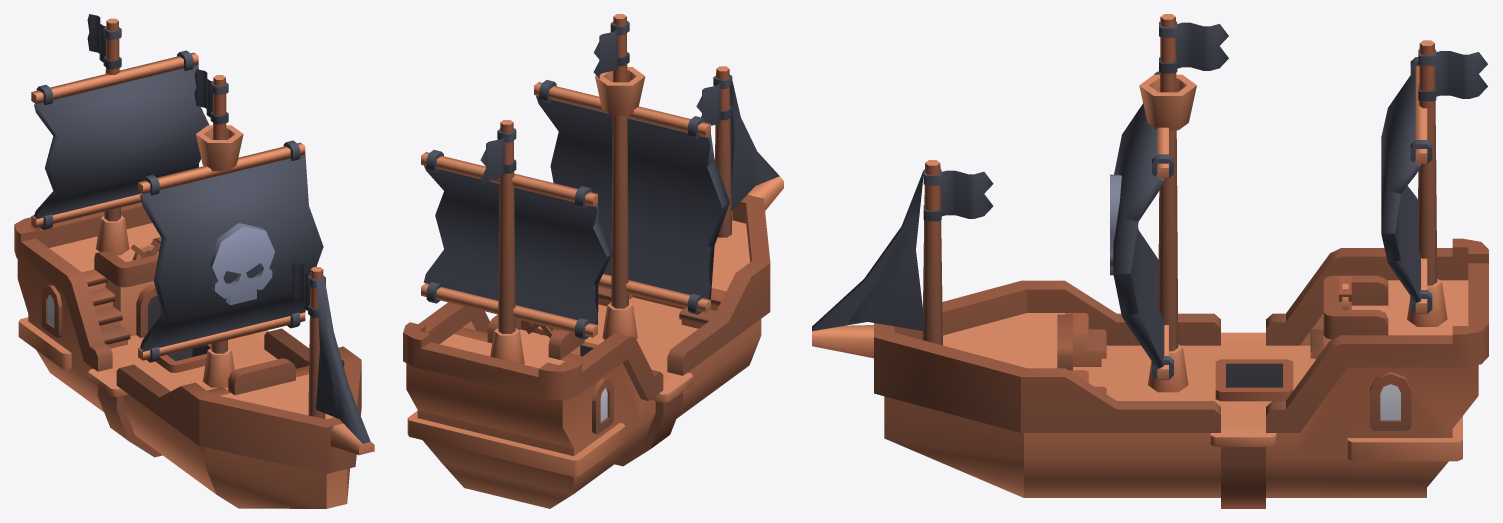
Rendered from reference_ship.glb.
3 renders of one model, left to right at view 1: azimuth 30°, elevation 25°; view 2: azimuth 150°, elevation 25°; view 3: azimuth 270°, elevation 25°, orthographic. The views are drawn at different scales.
Parts seen in each view (by area): view 1: ship-pirate-large, sail-a, sail-b, BowSailOriginal, flag-c.001, flag-c.002, flag-c, Bowsprit, BowSailFigurehead; view 2: ship-pirate-large, sail-a, sail-b, BowSailOriginal, BowSailFigurehead, flag-c.002, flag-c.001, flag-c, Bowsprit; view 3: ship-pirate-large, sail-a, sail-b, BowSailFigurehead, BowSailOriginal, flag-c, flag-c.001, flag-c.002, Bowsprit.
Boxes of the visible parts, x1,y1,x2,y2 form: ship-pirate-large: (14, 18, 361, 508); sail-a: (138, 140, 323, 362); sail-b: (31, 50, 209, 229); BowSailOriginal: (316, 279, 370, 443); flag-c.001: (194, 69, 228, 124); flag-c.002: (87, 14, 121, 69); flag-c: (291, 262, 325, 317); Bowsprit: (330, 423, 374, 455); BowSailFigurehead: (316, 284, 345, 422); ship-pirate-large: (403, 14, 770, 508); sail-a: (534, 80, 729, 314); sail-b: (421, 150, 612, 339); BowSailOriginal: (731, 81, 779, 210); BowSailFigurehead: (730, 85, 762, 209); flag-c.002: (480, 128, 516, 186); flag-c.001: (593, 21, 629, 78); flag-c: (696, 75, 732, 125); Bowsprit: (747, 176, 783, 210); ship-pirate-large: (874, 14, 1488, 508); sail-a: (1110, 71, 1173, 379); sail-b: (1381, 57, 1432, 313); BowSailFigurehead: (848, 178, 924, 330); BowSailOriginal: (812, 170, 923, 331); flag-c: (923, 169, 993, 221); flag-c.001: (1159, 21, 1228, 73); flag-c.002: (1418, 49, 1487, 101); Bowsprit: (812, 325, 873, 358).
Bounding box in the file's own units: 4.8 × 9.96 × 13.1.
5 materials, 5 textured.
